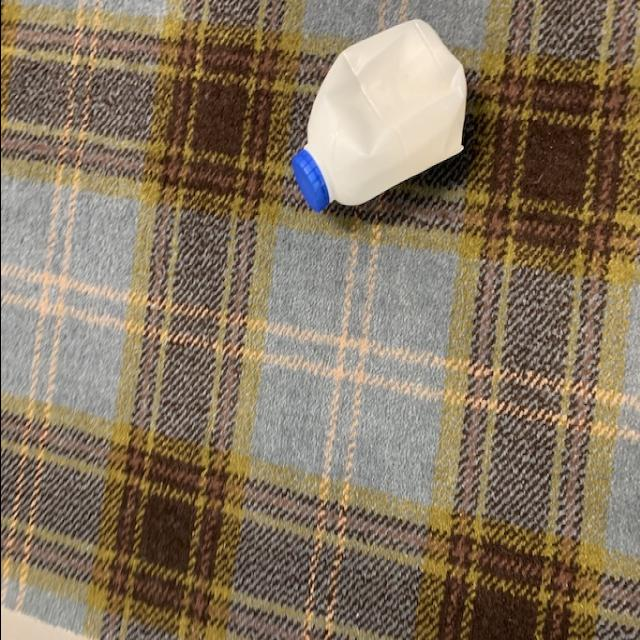litter: (290, 14, 470, 228)
